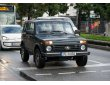License Plates: (61, 51, 76, 55)
